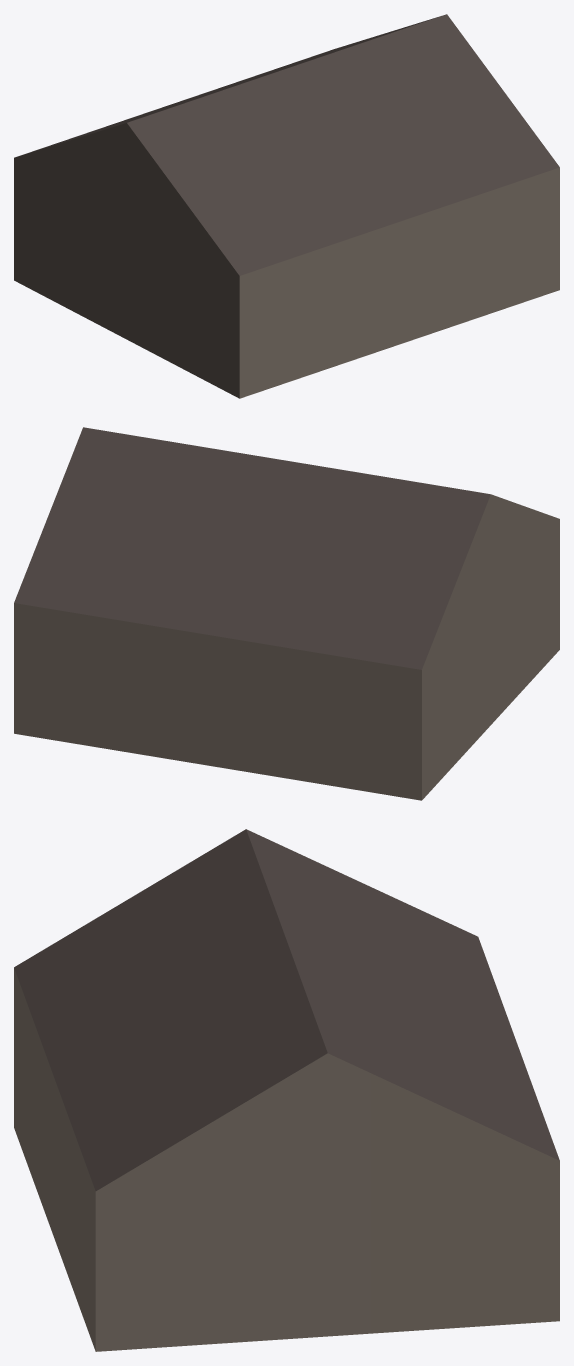
3 views of the same model, one above another, from view 1: azimuth 30°, elevation 25°; view 2: azimuth 150°, elevation 25°; view 3: azimuth 270°, elevation 25° (orthographic). The views are drawn at different scales.
Parts seen in each view (by area): view 1: HP-w858807469; view 2: HP-w858807469; view 3: HP-w858807469.
Boxes of the visible parts, <box> form: HP-w858807469: <box>14,14,559,398</box>; HP-w858807469: <box>14,427,559,800</box>; HP-w858807469: <box>14,829,559,1351</box>.
Size of the model in its own units: 10.22 by 5.3 by 9.26.
